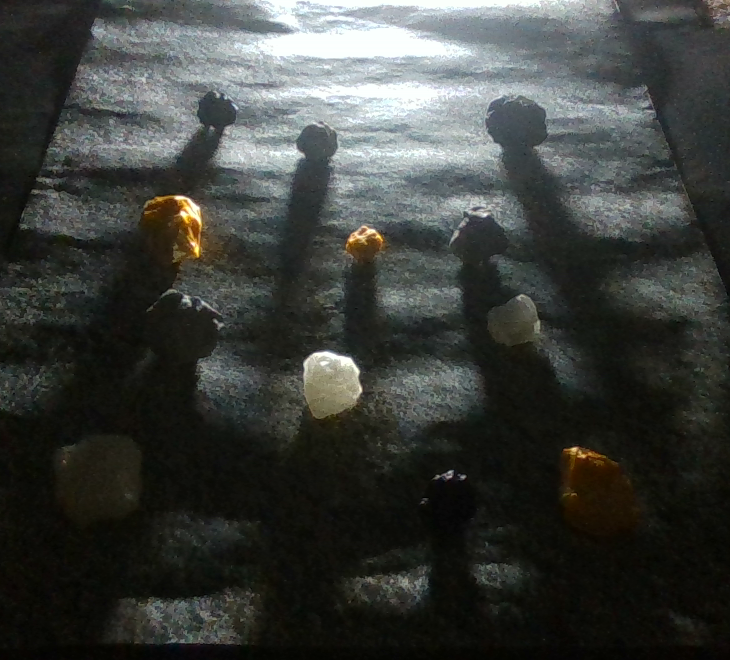anorthosite: (53, 434, 142, 531), (303, 352, 362, 420), (486, 295, 539, 347)
basalt: (416, 471, 477, 536), (485, 95, 547, 153), (197, 91, 238, 131)
metal: (558, 447, 640, 535), (139, 195, 202, 267), (346, 227, 382, 261)
regolith: (142, 289, 223, 364), (449, 207, 509, 265), (295, 121, 338, 162)
